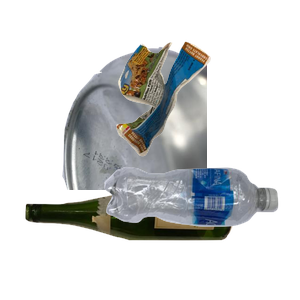glass: (23, 186, 249, 300)
metal: (60, 44, 300, 224)
plastic: (102, 165, 300, 300)
trash: (114, 39, 300, 188)
